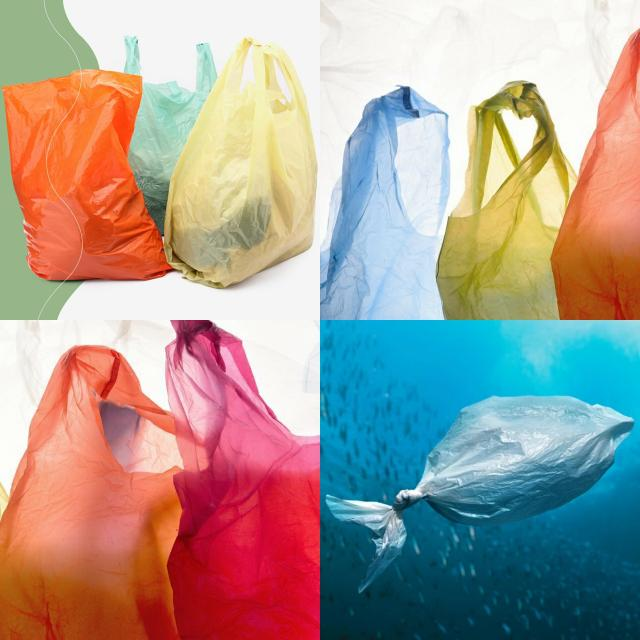Single-layer Plastic: (326, 396, 634, 592), (0, 346, 181, 639), (166, 321, 319, 640), (165, 38, 318, 288), (4, 70, 170, 280), (436, 81, 576, 319), (321, 86, 450, 319), (551, 29, 640, 319), (122, 33, 219, 235)
